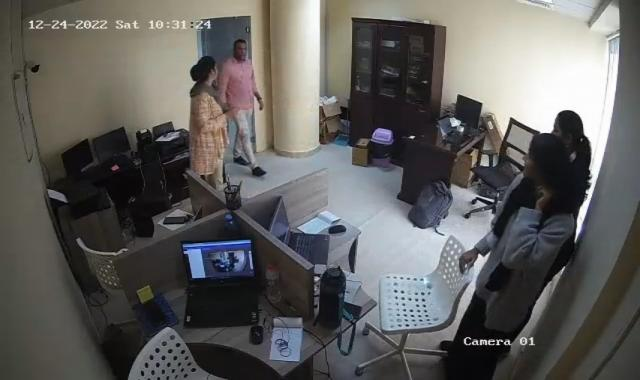no_hairnet: (522, 133, 559, 181), (189, 56, 221, 84), (232, 39, 250, 59)
